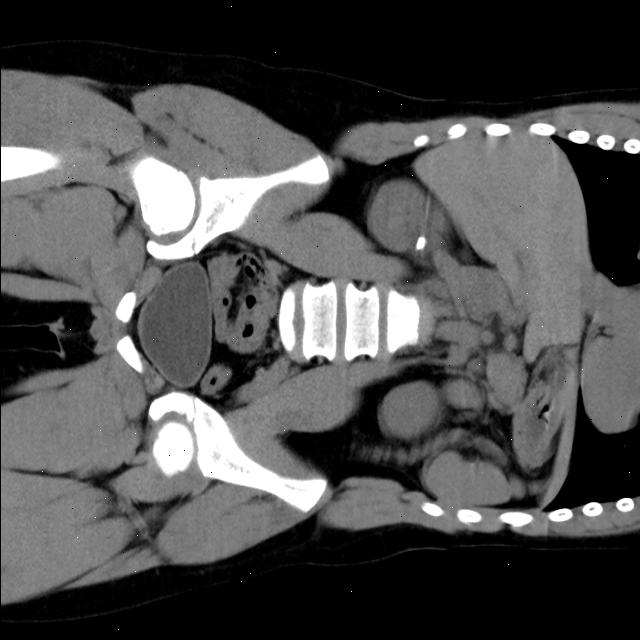kidneystone: (414, 234, 426, 252)
